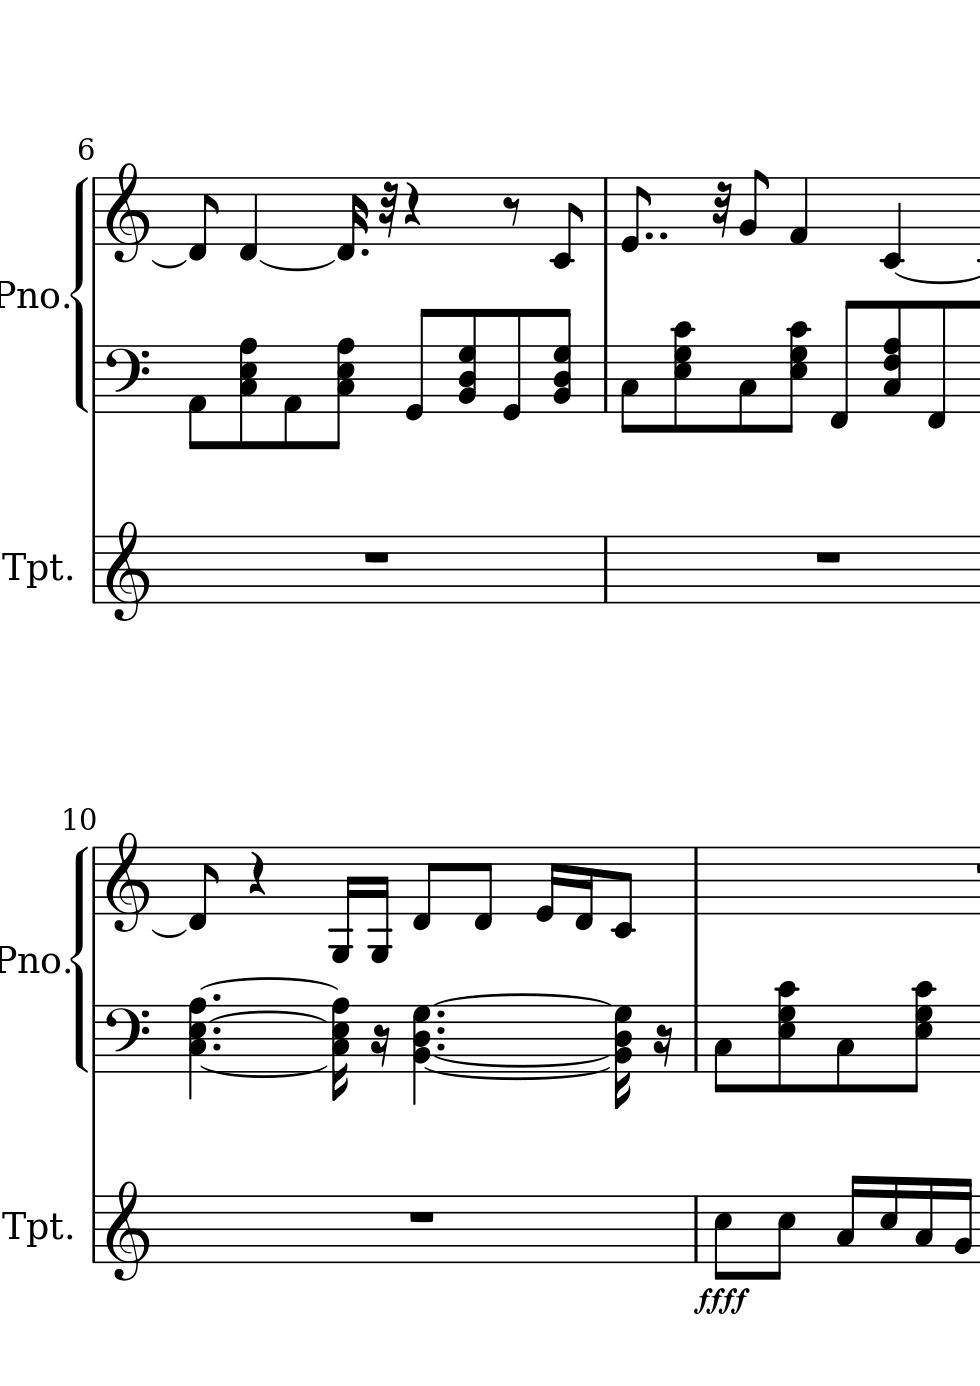0: (78, 804, 97, 834)
1: (62, 806, 76, 834)
16_-1: (572, 844, 595, 933)
16_-5: (367, 844, 393, 966)
16_0: (533, 845, 561, 925)
16_2: (952, 1177, 973, 1266)
16_3: (834, 1173, 862, 1265), (912, 1176, 935, 1265)
16_5: (878, 1174, 899, 1265)
16_th: (612, 1001, 633, 1116), (330, 996, 351, 1101)
4_-1: (237, 175, 260, 263)
4_-2: (880, 175, 903, 270)
4_1: (786, 176, 809, 246)
4_th: (186, 997, 208, 1095), (410, 1002, 432, 1105)
6: (77, 136, 94, 162)
8_-1: (826, 297, 859, 432), (923, 296, 948, 432), (185, 844, 221, 932), (186, 175, 218, 263), (335, 175, 368, 262), (409, 844, 438, 932), (472, 844, 496, 933)
8_-2: (547, 175, 585, 270), (611, 844, 635, 940)
8_-5: (328, 843, 358, 964)
8_0: (402, 306, 435, 424), (500, 305, 523, 423), (620, 175, 651, 255)
8_1: (281, 344, 303, 451), (186, 344, 207, 451)
8_2: (738, 168, 768, 245)
8_3: (735, 343, 758, 435), (833, 1003, 856, 1095), (711, 1003, 733, 1096), (617, 344, 640, 436)
8_5: (768, 1193, 797, 1282), (711, 1193, 732, 1281)
8_th: (665, 316, 699, 436), (778, 316, 812, 434), (772, 973, 804, 1096), (905, 977, 938, 1094), (327, 336, 357, 449), (552, 308, 575, 414), (239, 334, 259, 452), (883, 298, 904, 413), (458, 308, 479, 415)
Brace: (69, 171, 91, 411), (69, 841, 89, 1073)
Double_dot: (642, 228, 669, 244)
Fclef: (102, 343, 150, 413), (103, 1004, 150, 1075)
Gclef: (103, 830, 151, 934), (105, 159, 150, 263), (105, 1178, 150, 1282), (105, 517, 148, 622)
Pno: (1, 941, 63, 977), (1, 277, 62, 313)
Rests1: (810, 548, 845, 568), (360, 547, 392, 566), (405, 1207, 438, 1226)
Rests16: (369, 1024, 392, 1069), (652, 1024, 673, 1069)
Rests32: (708, 179, 733, 240), (377, 179, 399, 240)
Rests4: (244, 850, 266, 898), (402, 179, 422, 228)
Rests8: (501, 195, 523, 229)
Single_barline: (596, 536, 614, 603), (687, 847, 705, 914), (687, 1196, 705, 1263), (597, 346, 614, 413), (687, 1005, 704, 1072), (597, 179, 614, 244), (87, 848, 102, 914), (87, 536, 101, 604), (87, 1196, 101, 1264), (87, 178, 101, 245), (88, 1006, 102, 1072), (88, 346, 101, 413)
Slur: (425, 1065, 611, 1082), (436, 992, 612, 1007), (433, 1054, 609, 1067), (199, 1065, 327, 1078), (202, 977, 335, 988), (205, 1010, 325, 1021), (259, 259, 340, 273), (150, 257, 188, 269), (148, 926, 187, 938)
Tpt: (2, 1205, 65, 1249), (2, 547, 64, 590)
dot: (433, 1007, 447, 1020), (433, 1024, 448, 1036), (358, 246, 371, 258), (210, 992, 222, 1004), (210, 1025, 223, 1037), (210, 1041, 223, 1053), (435, 1041, 447, 1052)
ffff: (692, 1285, 752, 1319)
